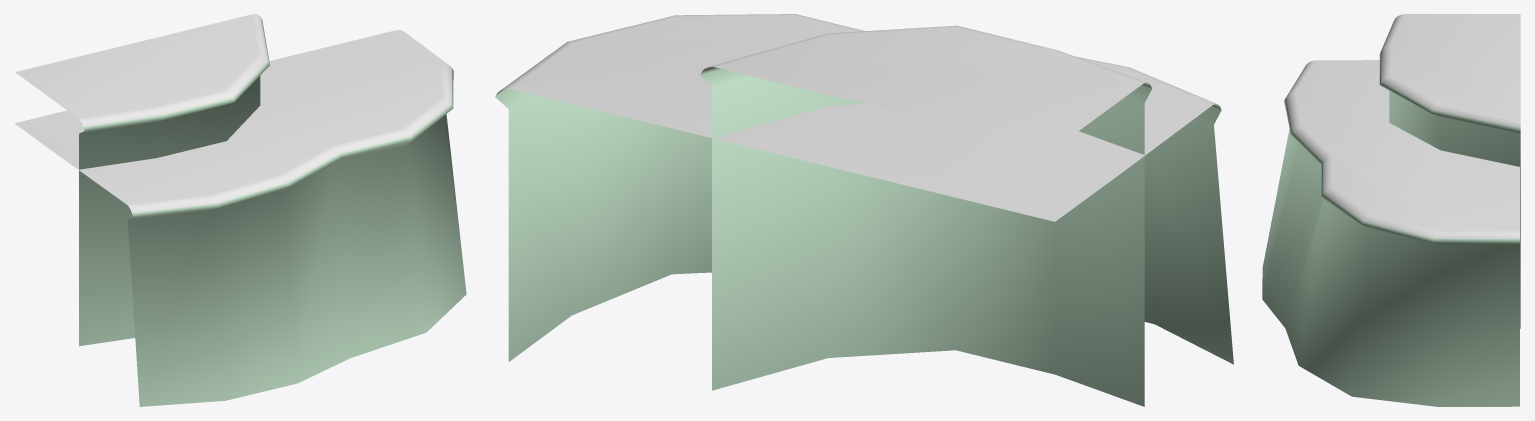
Rendered from WallEndCapLeft.fbx.
3 renders of one model, left to right at view 1: azimuth 30°, elevation 25°; view 2: azimuth 150°, elevation 25°; view 3: azimuth 270°, elevation 25°, orthographic. The views are drawn at different scales.
Parts seen in each view (by area): view 1: Wall End Cap Left; view 2: Wall End Cap Left; view 3: Wall End Cap Left.
Part boxes in pixels (bbox=[...]): Wall End Cap Left: bbox=[15, 14, 466, 406]; Wall End Cap Left: bbox=[495, 14, 1233, 406]; Wall End Cap Left: bbox=[1262, 14, 1520, 406].
Size of the model in its own units: 524 by 310 by 327.
